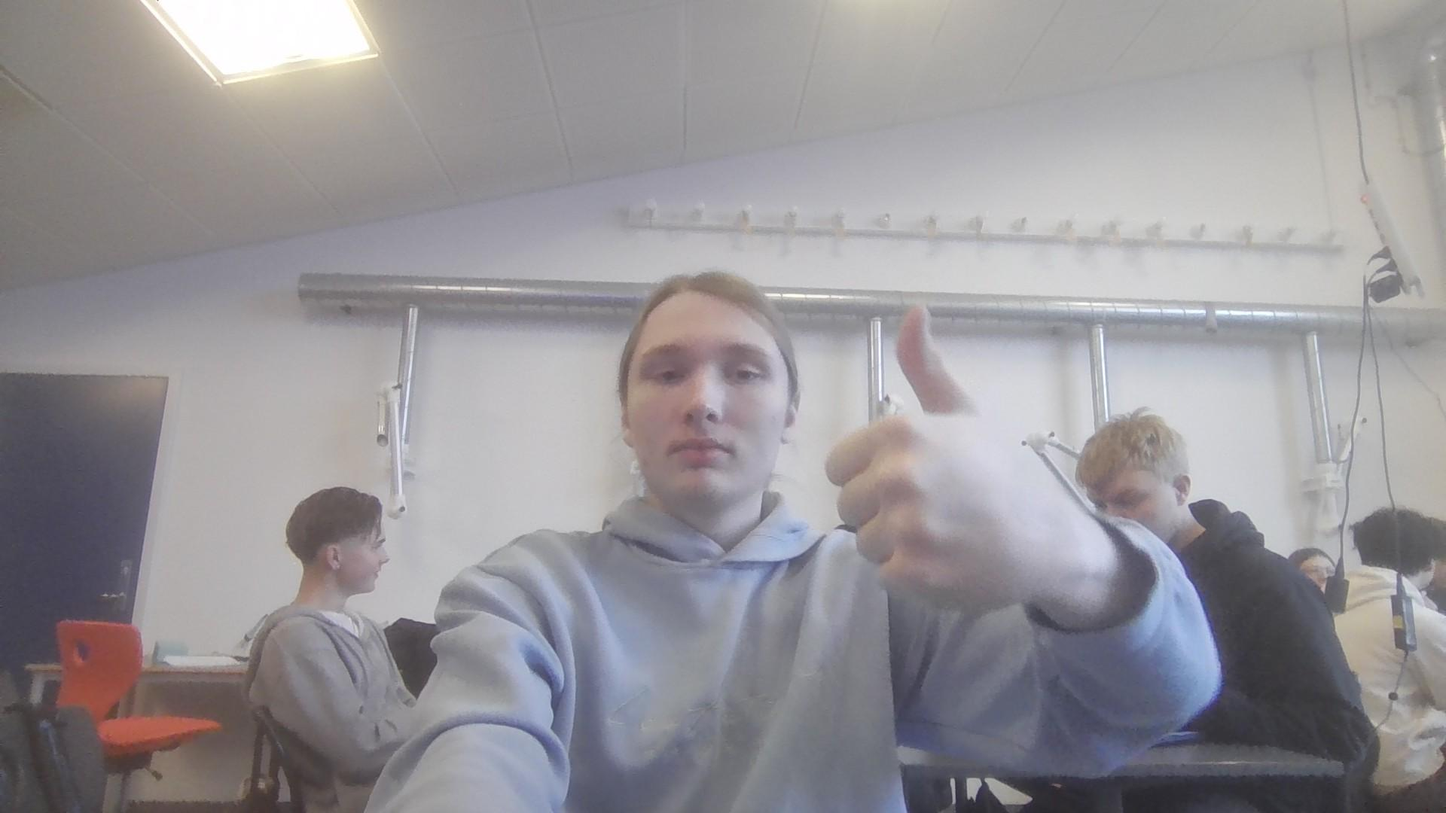thumbs up: (830, 294, 1076, 621)
